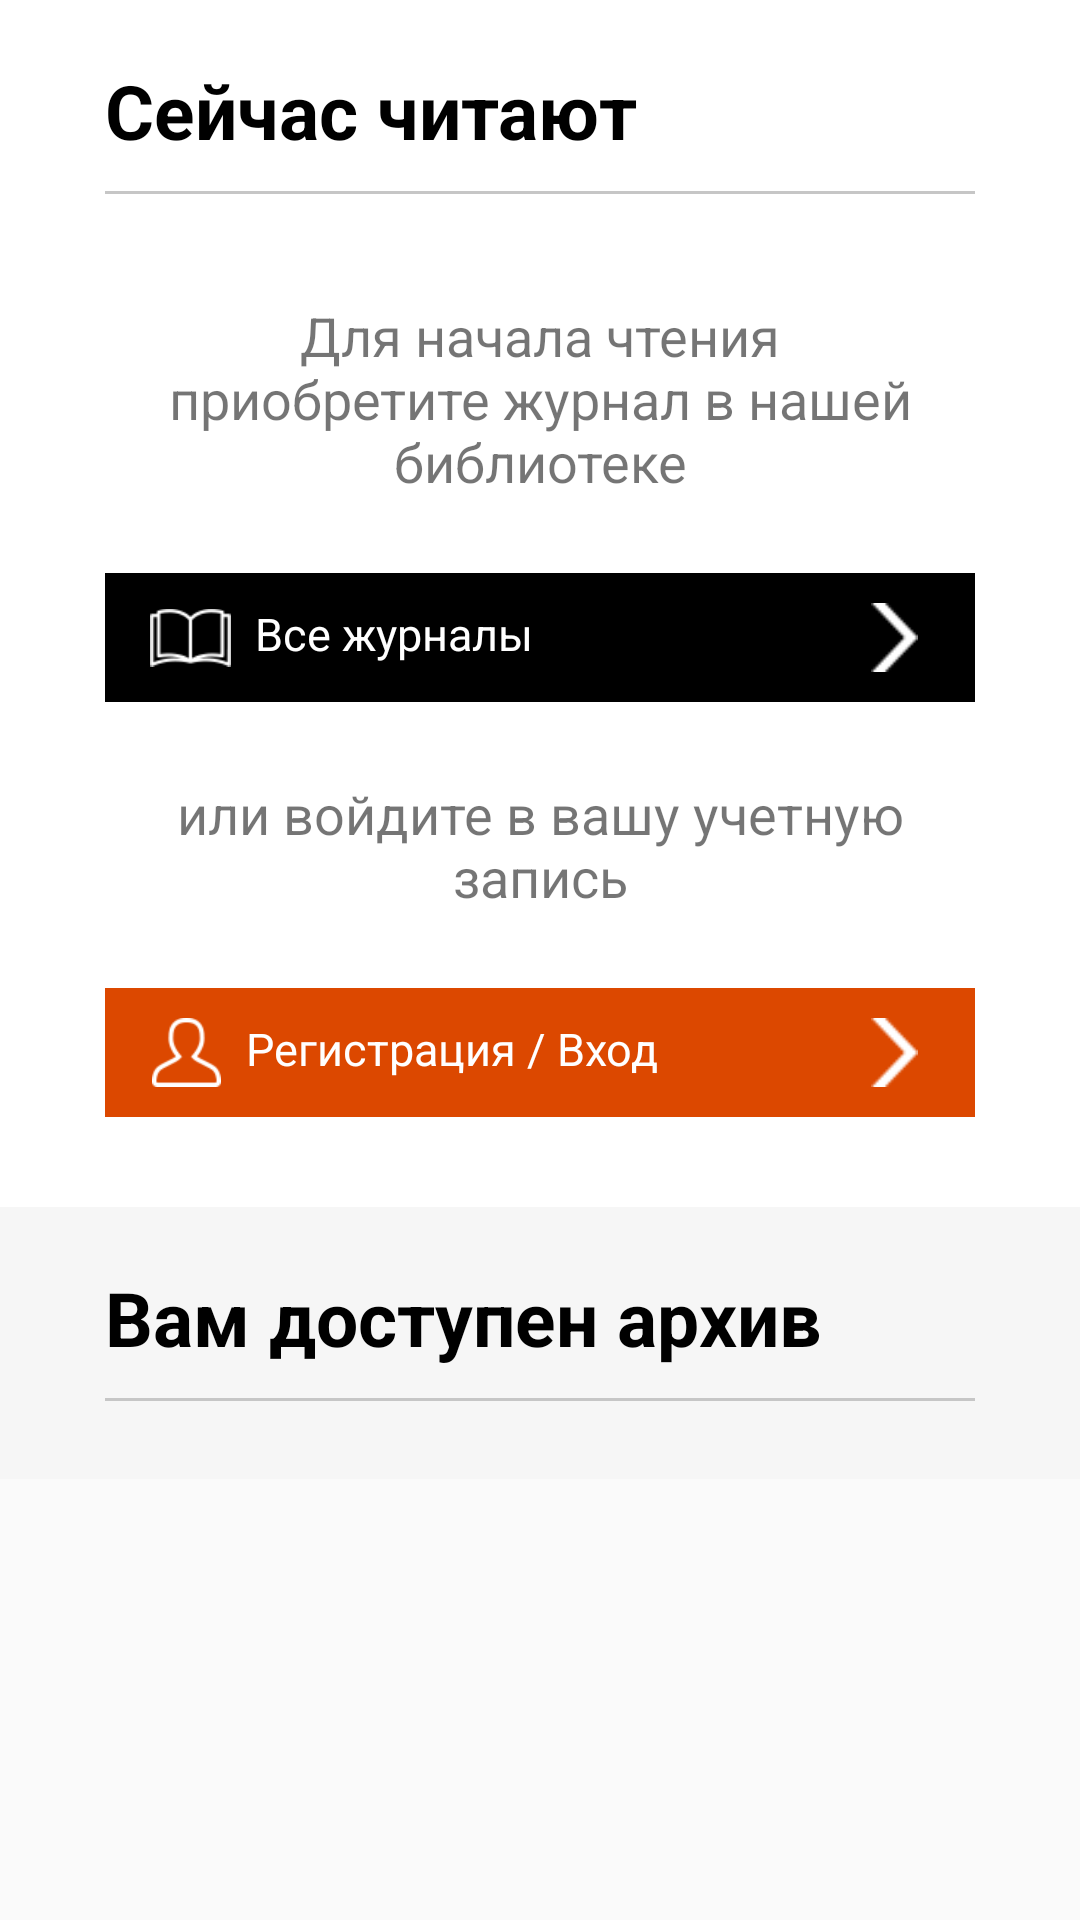

Icons on this 1080*1920 Android screen, each with its box as (x1, y1, x2, y2):
book: (150, 609, 231, 667)
user: (152, 1018, 221, 1087)
Стрелка перейти по со кнопке: (871, 603, 918, 672), (871, 1018, 918, 1087)
